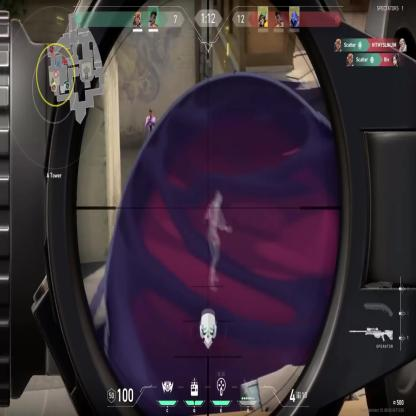enemy: (144, 108, 156, 164)
enemy_head: (149, 108, 153, 117)
